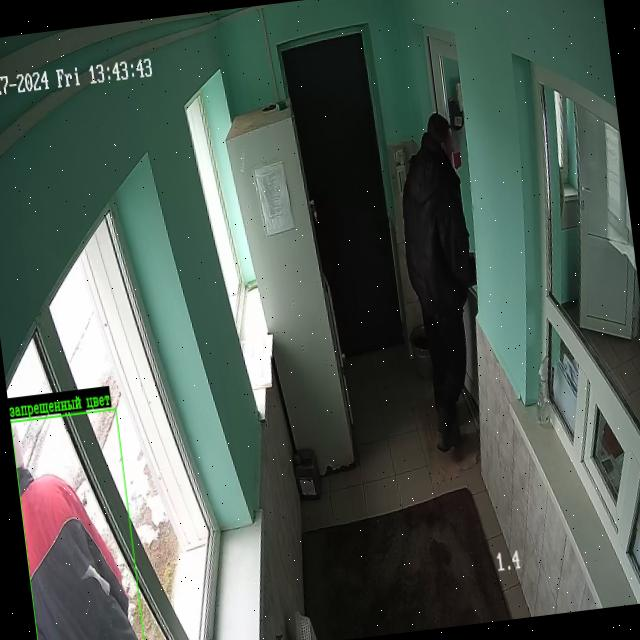Person: (402, 112, 475, 451)
Red uniform: (12, 424, 138, 640)
